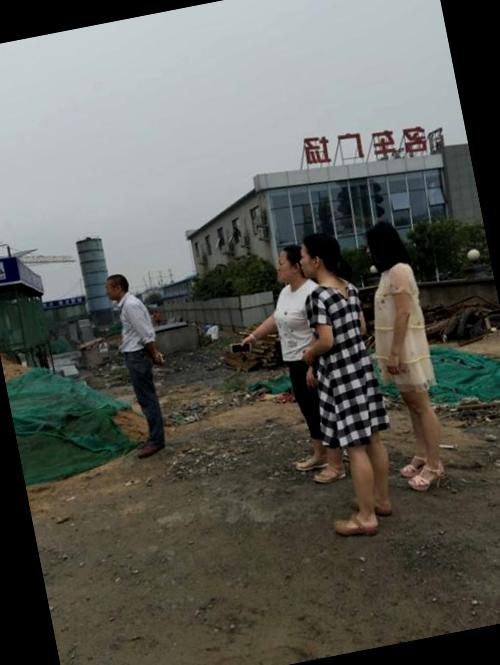no_helmet: (360, 214, 411, 284), (294, 222, 348, 288), (263, 232, 312, 290), (94, 268, 132, 306)
